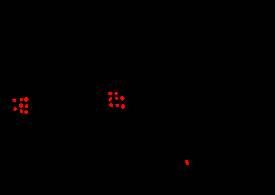Target: (120, 96, 125, 101), (24, 97, 29, 102), (19, 103, 23, 108), (121, 104, 125, 109), (185, 160, 189, 165), (109, 103, 113, 107), (13, 107, 17, 111), (24, 110, 28, 114), (108, 92, 113, 95), (109, 97, 112, 102), (114, 92, 118, 95), (12, 99, 16, 102), (25, 104, 28, 108), (115, 104, 119, 107), (20, 109, 23, 113), (115, 97, 118, 100), (20, 98, 23, 101)
